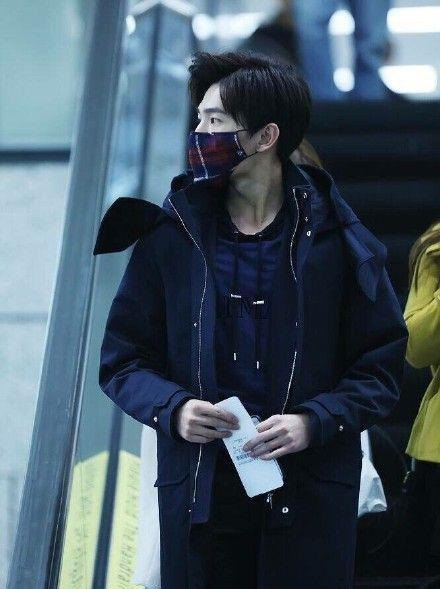face_mask: (192, 78, 248, 182)
